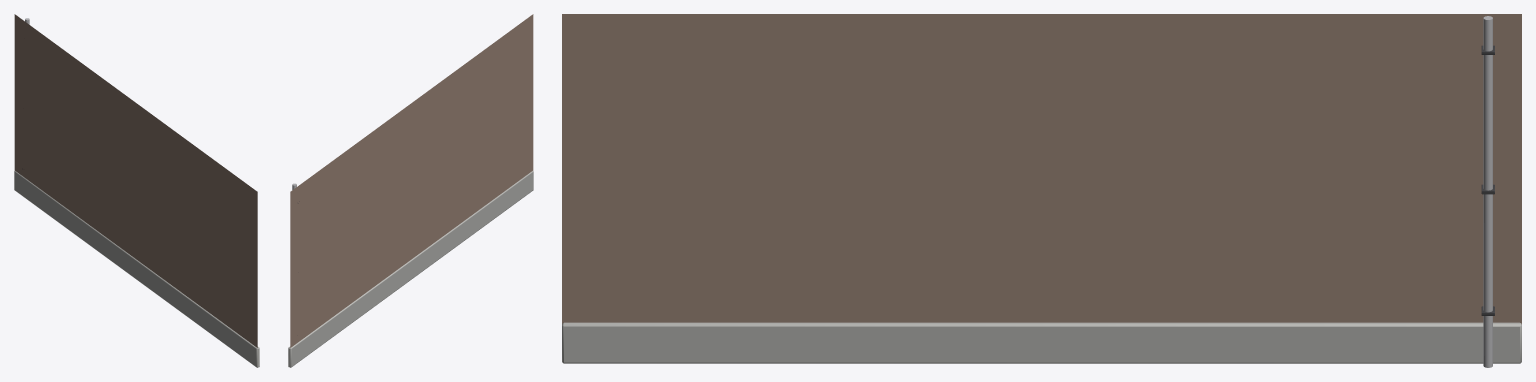
File: side_ground_brown_10.glb
3 views of the same model, side by side, from view 1: azimuth 30°, elevation 25°; view 2: azimuth 150°, elevation 25°; view 3: azimuth 270°, elevation 25° (orthographic). The views are drawn at different scales.
Parts seen in each view (by area): view 1: side_ground_brown_10; view 2: side_ground_brown_10; view 3: side_ground_brown_10.
Part boxes in pixels (bbox=[...]): side_ground_brown_10: bbox=[14, 14, 259, 367]; side_ground_brown_10: bbox=[288, 14, 533, 367]; side_ground_brown_10: bbox=[562, 14, 1521, 367].
Size of the model in its own units: 0.18 by 4 by 10.
